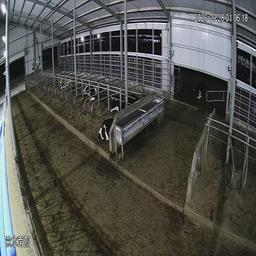cow: (186, 77, 203, 105), (96, 113, 110, 144), (83, 78, 99, 101), (108, 92, 123, 113)
